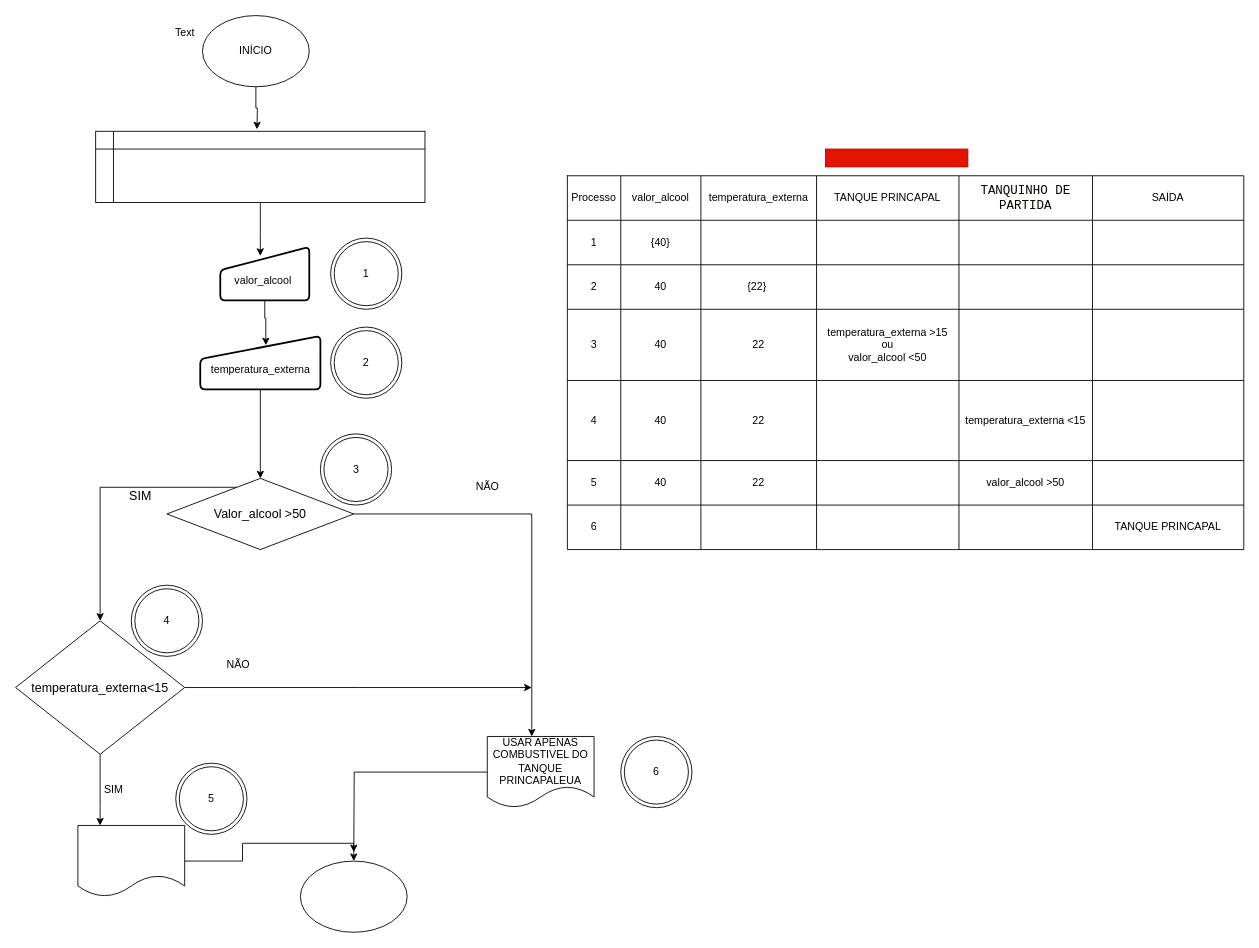
The diagram is 1259 pixels wide and 948 high, and some of its shapes have lost their labels. Each missing label, with the centre of its shape:
"FiM" belongs at (x=353, y=896).
"TESTE DE MESA" belongs at (x=896, y=157).
"USAR O COMBUSTIVEL DO TANQUINHO" belongs at (x=131, y=861).
"valor_alcool temperatura_externa" belongs at (x=260, y=166).
